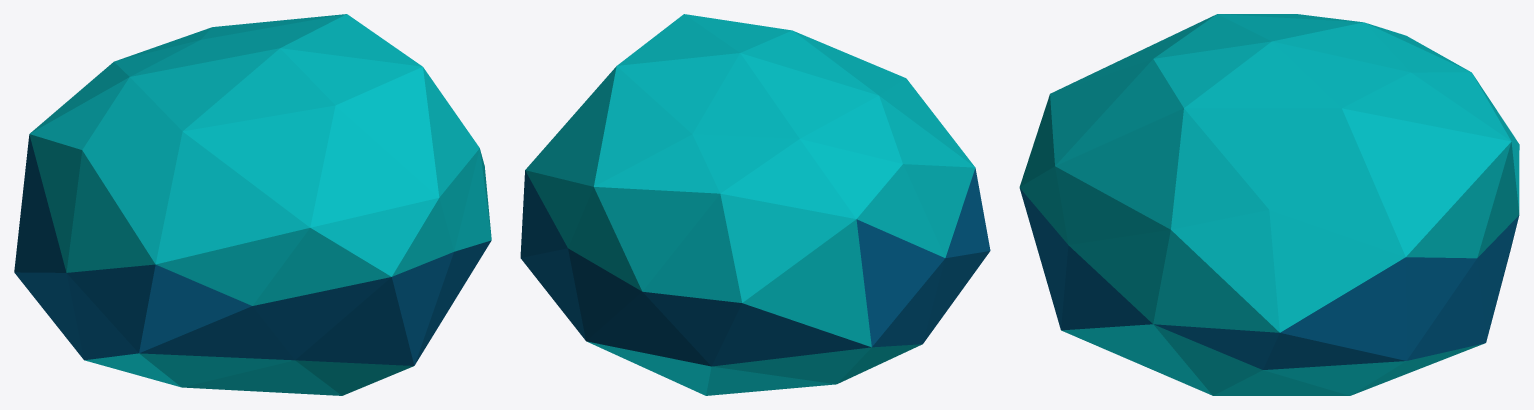
File: coral_brain.glb
3 views of the same model, side by side, from view 1: azimuth 30°, elevation 25°; view 2: azimuth 150°, elevation 25°; view 3: azimuth 270°, elevation 25° (orthographic). The views are drawn at different scales.
Visible parts, largest first — view 1: Brain; view 2: Brain; view 3: Brain.
Part boxes in pixels (x1,y1,x2,y2): Brain: (14,14,491,395); Brain: (520,14,990,395); Brain: (1019,14,1519,395).
Bounding box in the file's own units: 1.11 × 0.8106 × 1.06.
